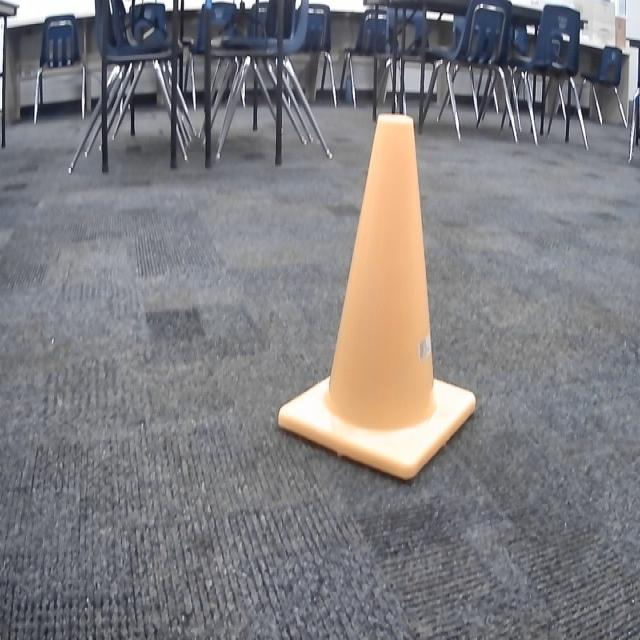cone: (278, 112, 478, 482)
